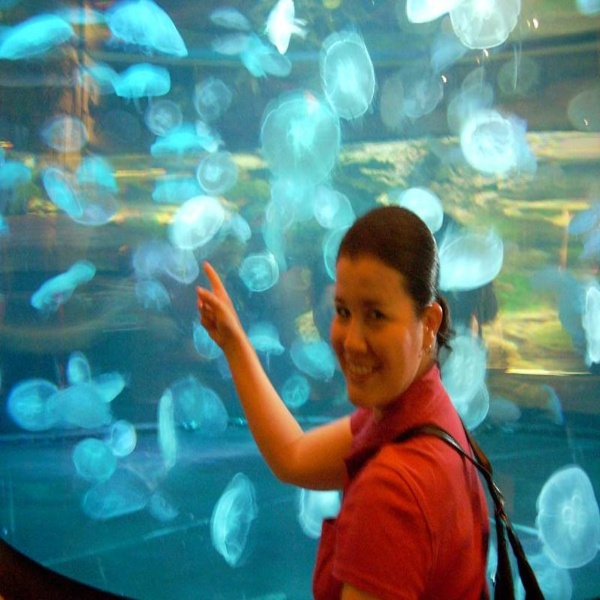Jellyfish: (0, 0, 599, 598), (524, 455, 598, 598), (98, 0, 188, 62)
